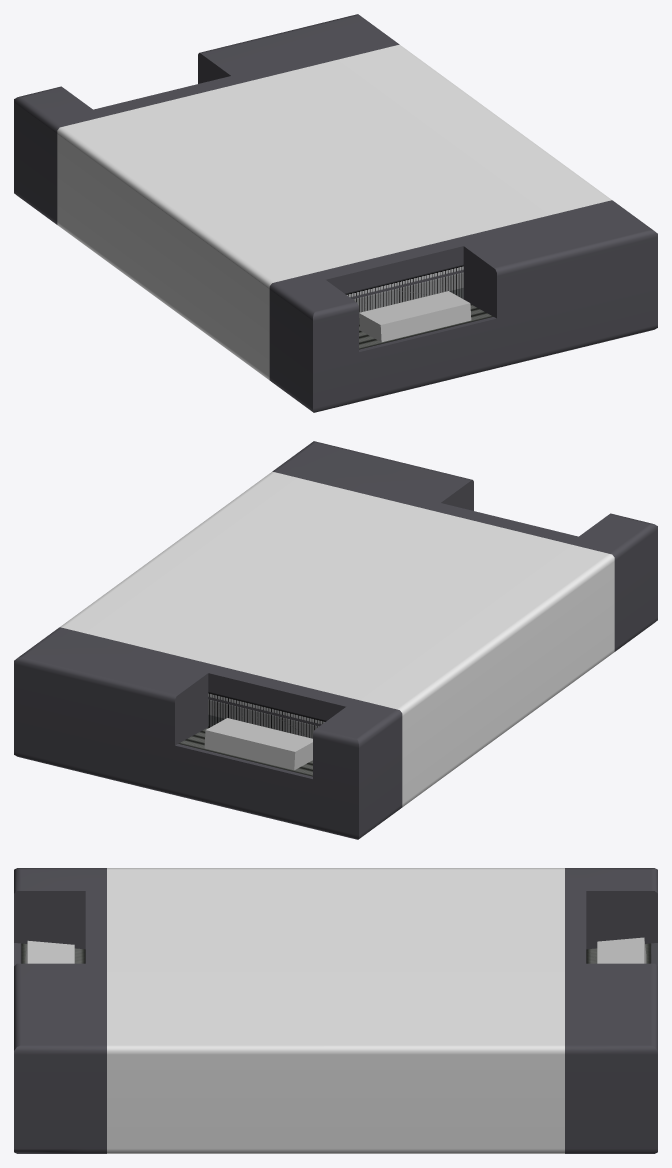
File: MoneyPrinter001a.fbx
3 views of the same model, one above another, from view 1: azimuth 30°, elevation 25°; view 2: azimuth 150°, elevation 25°; view 3: azimuth 270°, elevation 25° (orthographic). The views are drawn at different scales.
Parts seen in each view (by area): view 1: MoneyPrinter001a, Money_Stack; view 2: MoneyPrinter001a, Paper_Stack; view 3: MoneyPrinter001a, Paper_Stack, Money_Stack.
Boxes of the visible parts, left/top/right/bottom form: MoneyPrinter001a: left=14, top=14, right=657, bottom=412; Money_Stack: left=359, top=291, right=471, bottom=342; MoneyPrinter001a: left=14, top=441, right=657, bottom=839; Paper_Stack: left=204, top=718, right=312, bottom=770; MoneyPrinter001a: left=14, top=868, right=657, bottom=1153; Paper_Stack: left=597, top=937, right=646, bottom=963; Money_Stack: left=25, top=940, right=74, bottom=963.
Bounding box in the file's own units: 60 × 16.5 × 90.
